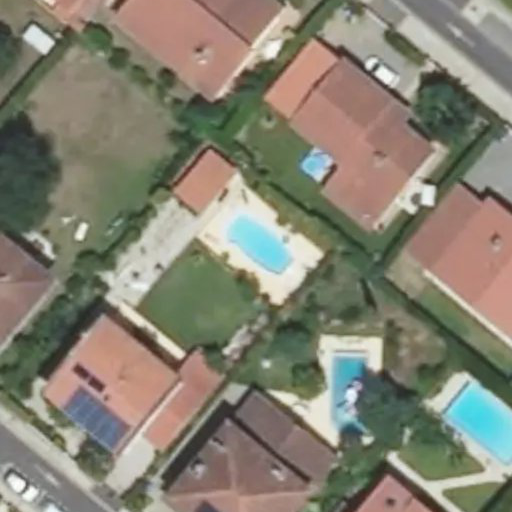pool: (220, 232, 292, 251)
